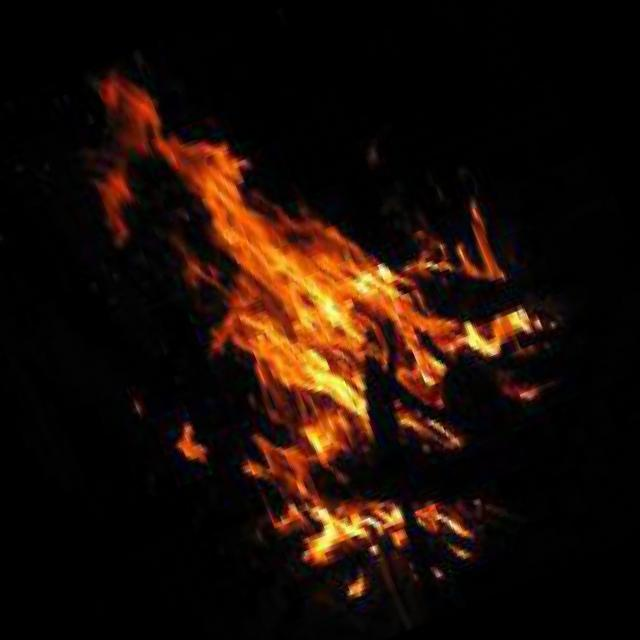fire: (40, 0, 619, 631)
